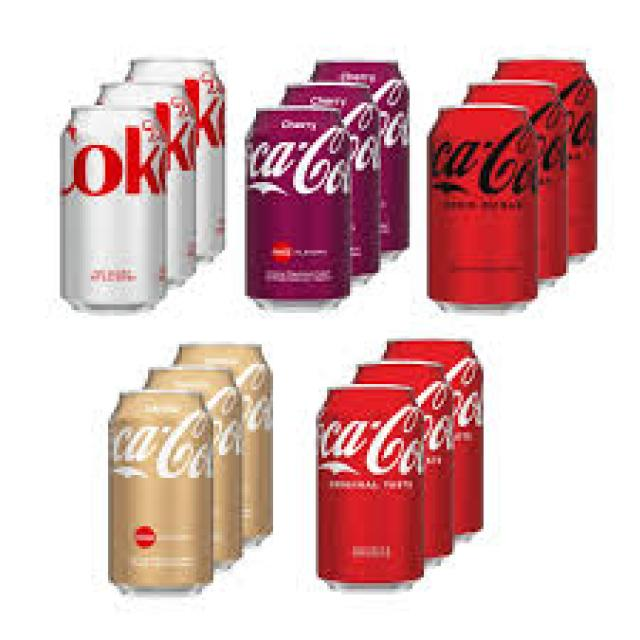Cans: (299, 381, 438, 600), (418, 102, 546, 322), (57, 102, 182, 318), (239, 102, 364, 316), (102, 387, 225, 603)
